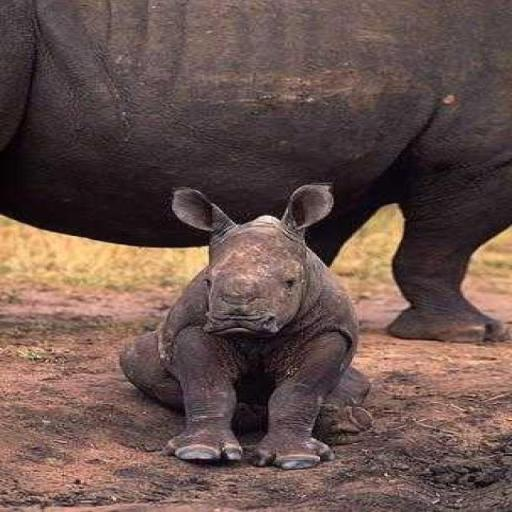Rhino: (0, 0, 510, 344), (118, 183, 377, 469)
